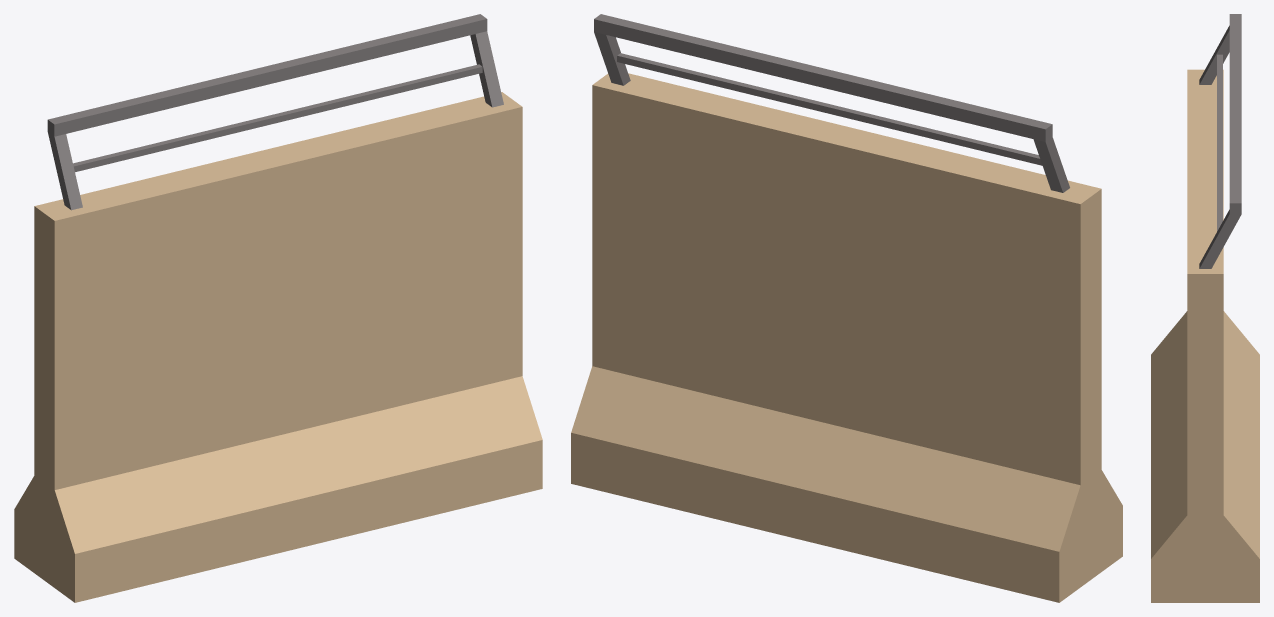
Rendered from military-wall.glb.
The picture shows the model from 3 angles, left to right: view 1: azimuth 30°, elevation 25°; view 2: azimuth 150°, elevation 25°; view 3: azimuth 270°, elevation 25°; orthographic projection. The views are drawn at different scales.
Parts seen in each view (by area): view 1: military-wall; view 2: military-wall; view 3: military-wall.
Boxes of the visible parts, <box> form: military-wall: <box>14,14,542,602</box>; military-wall: <box>571,14,1122,602</box>; military-wall: <box>1151,14,1259,602</box>.
Bounding box in the file's own units: 4 × 3.6 × 0.9.
Materials: 1 (1 with a texture image).
